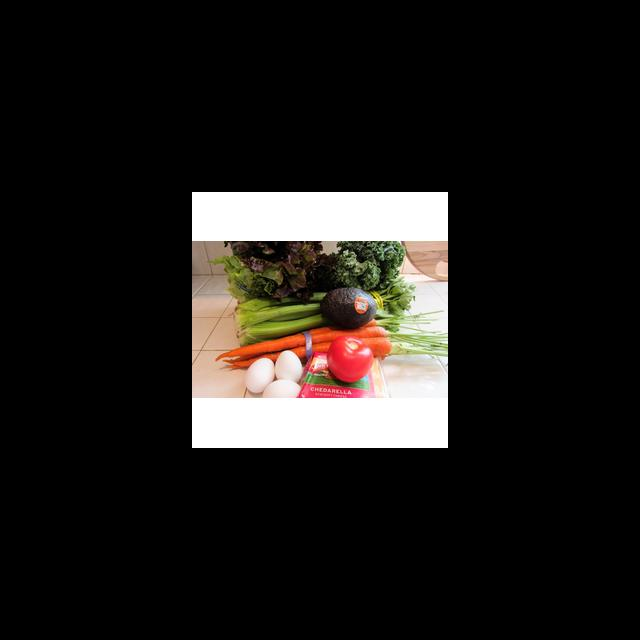food_waste: (220, 241, 403, 399)
